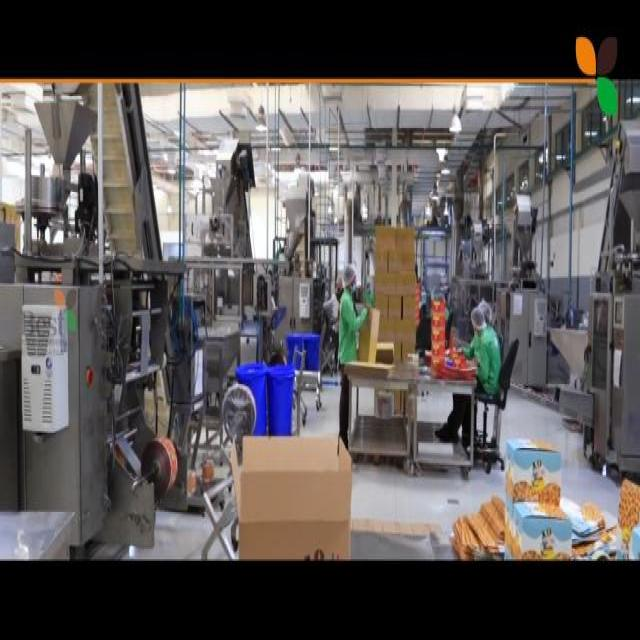hairnet: (479, 298, 493, 322), (471, 308, 484, 332), (344, 265, 355, 288)
